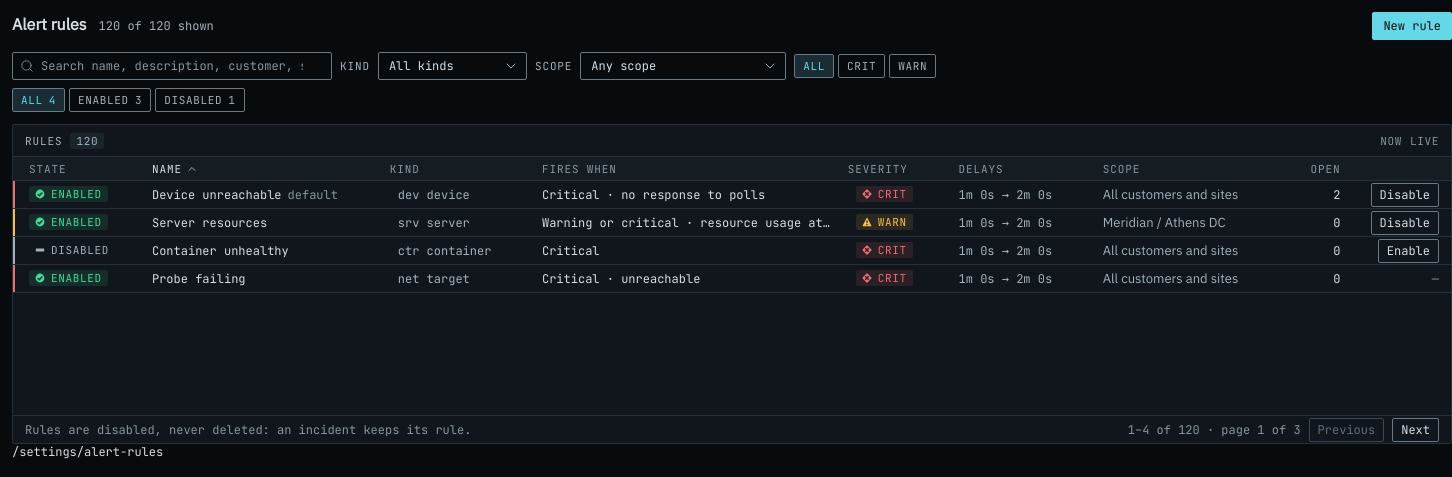
Test: search, filters, sort and pages › pages: a second page is asked for by number, and the pager says where it is
Expected: the navigation bar named "Pages" is shown, top-left (1128, 418), bottom-right (1439, 442)
Click the button "Next": (1416, 430) top-left (1392, 418), bottom-right (1439, 442)
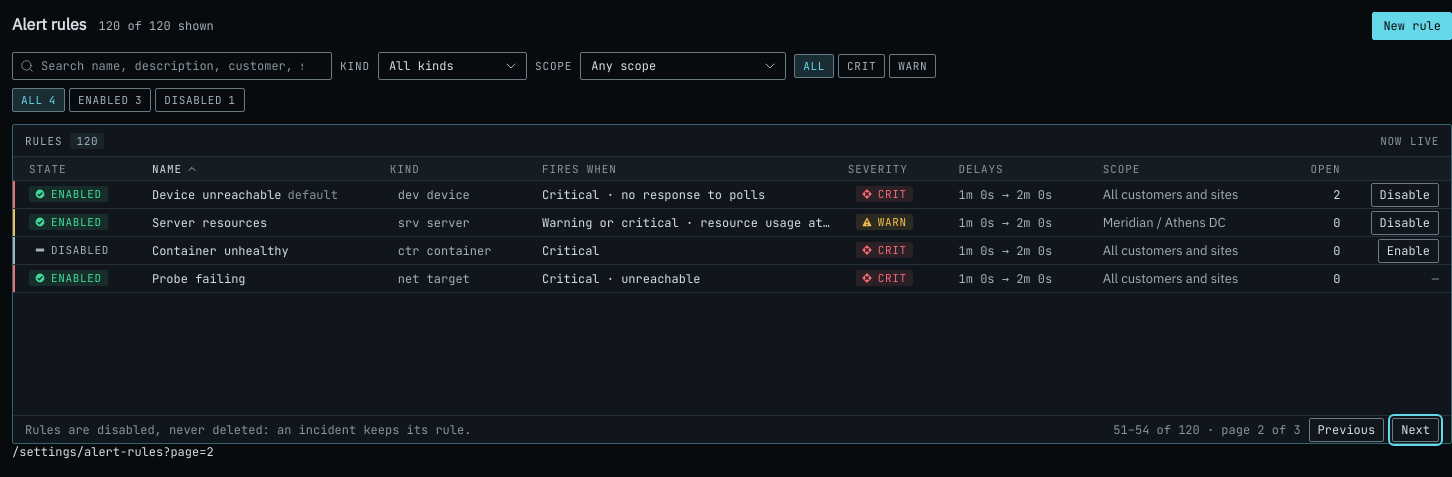
Expected: the text with test id "where" reads "/settings/alert-rules?page=2", top-left (12, 444), bottom-right (214, 460)
Expected: the navigation bar named "Pages" shows "page 2 of 3", top-left (1113, 418), bottom-right (1439, 442)
